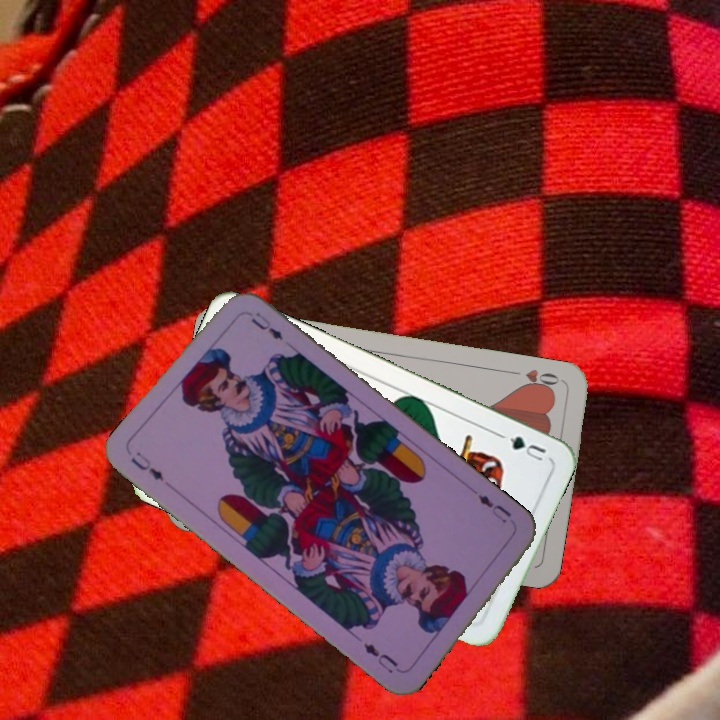EU: (473, 489, 515, 526), (126, 447, 167, 484)
GU: (505, 432, 549, 464)
HO: (506, 365, 565, 394)
